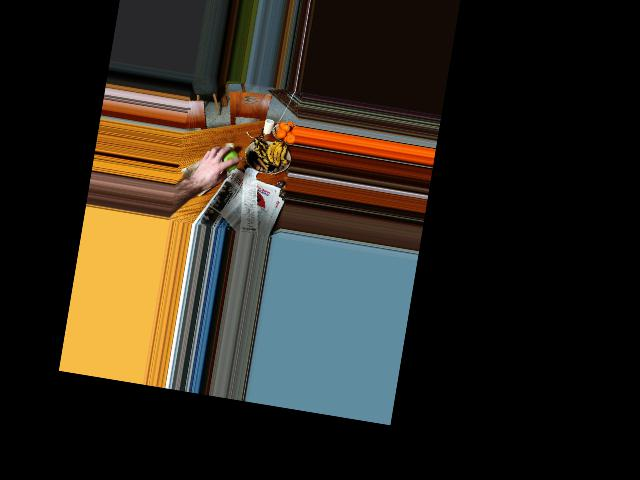apple: (213, 146, 240, 174)
